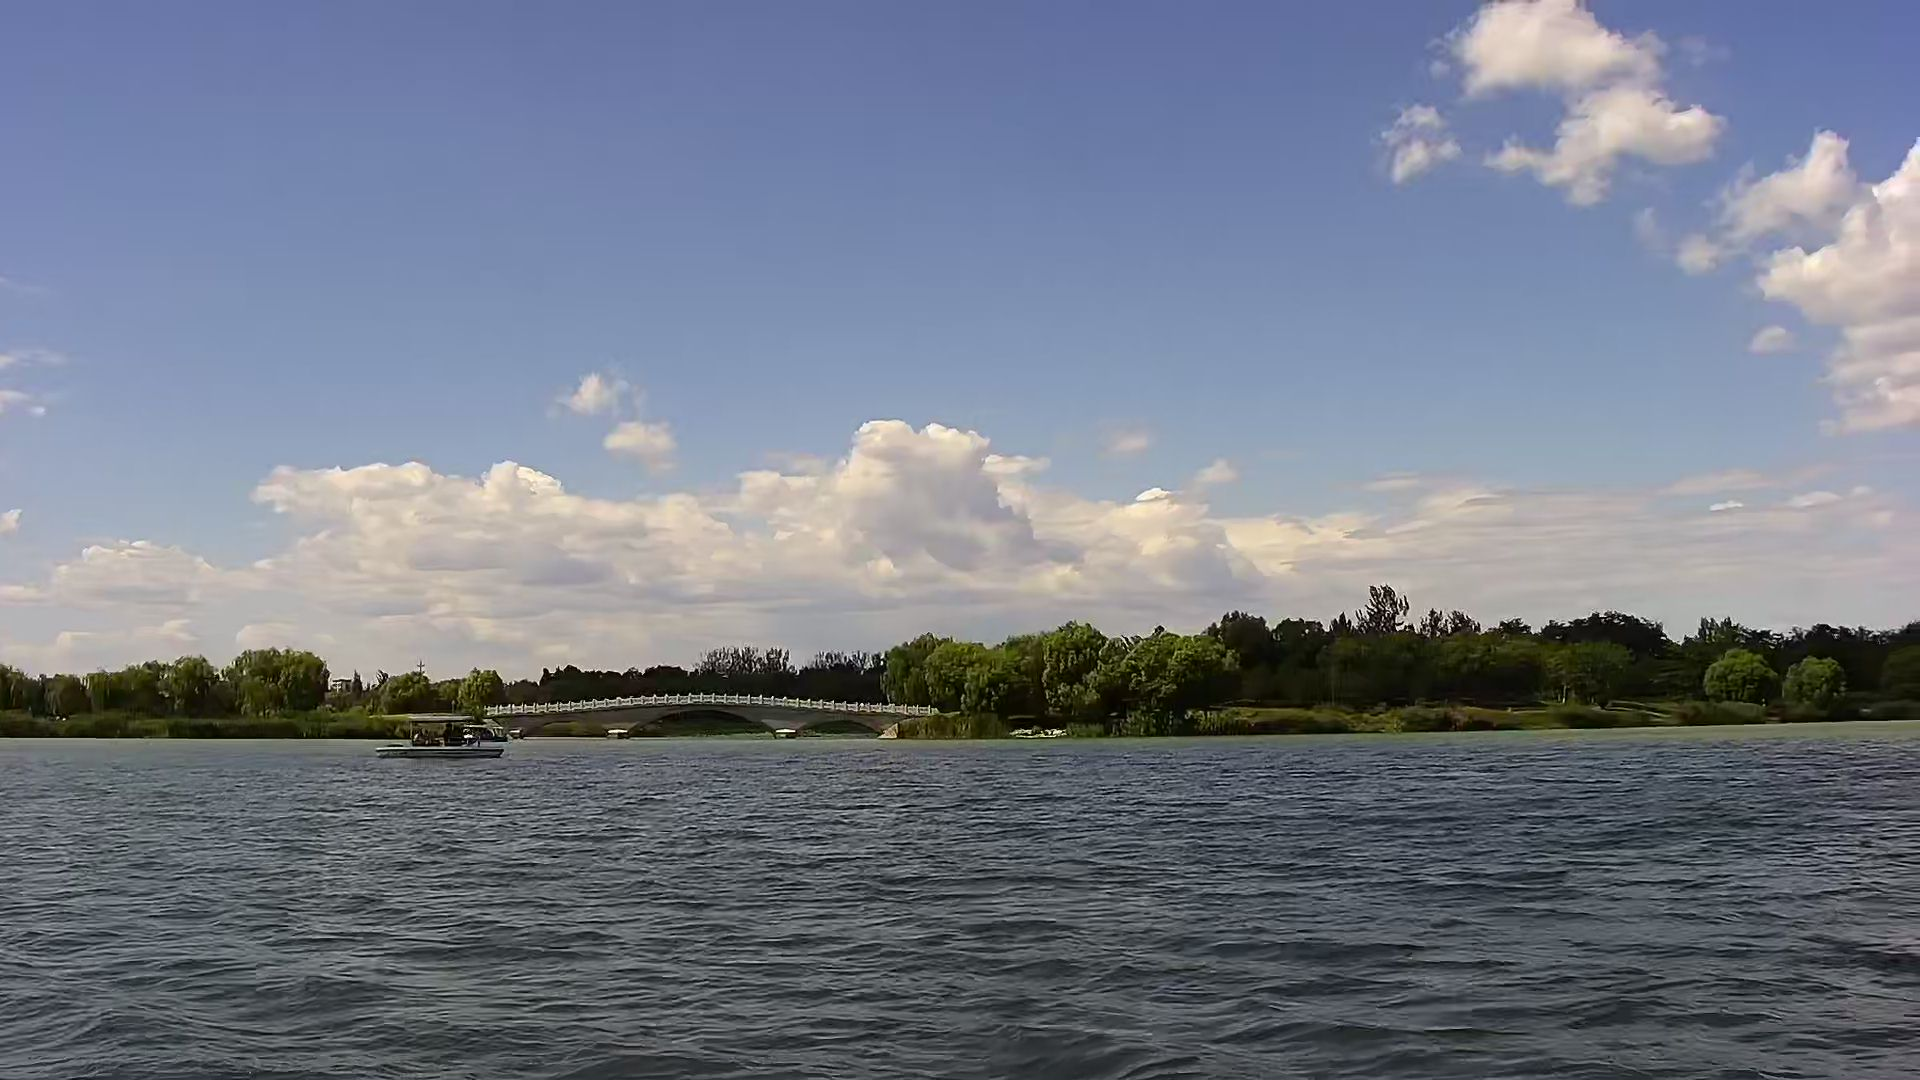boat: (377, 704, 525, 764)
bridge: (500, 683, 943, 744)
